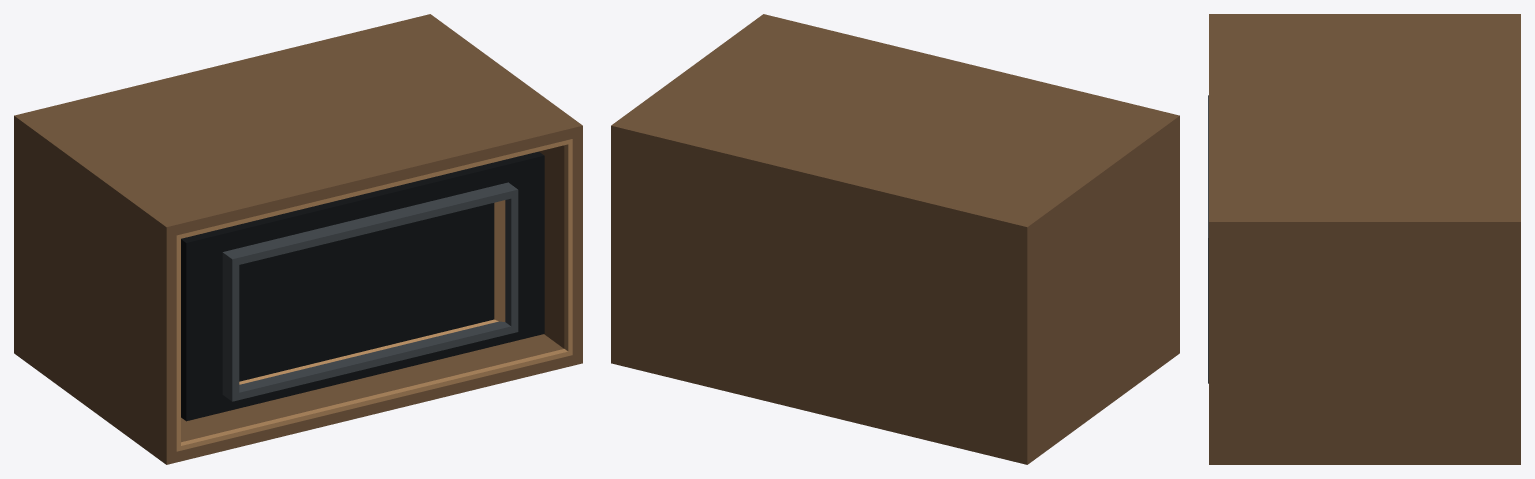
The model's file is tweeter.glb.
3 views of the same model, side by side, from view 1: azimuth 30°, elevation 25°; view 2: azimuth 150°, elevation 25°; view 3: azimuth 270°, elevation 25° (orthographic). The views are drawn at different scales.
Visible parts, largest first — view 1: CabinetTop, Baffle, CabinetLeft, Cabinet, CabinetRight, HornFrameTop, HornFrameBottom, FrontTrimBottom, HornFlare, HornFrameLeft, FrontTrimTop, FrontTrimRight (+2 smaller); view 2: CabinetBack, CabinetTop, CabinetLeft, Cabinet, CabinetRight; view 3: CabinetRight, CabinetTop, Cabinet.
Boxes of the visible parts, <box> form: CabinetTop: <box>14,14,582,237</box>; Baffle: <box>181,151,544,421</box>; CabinetLeft: <box>14,126,176,454</box>; Cabinet: <box>14,334,582,464</box>; CabinetRight: <box>539,136,582,354</box>; HornFrameTop: <box>222,182,518,266</box>; HornFrameBottom: <box>222,321,518,401</box>; FrontTrimBottom: <box>176,349,572,451</box>; HornFlare: <box>239,200,505,384</box>; HornFrameLeft: <box>222,260,239,394</box>; FrontTrimTop: <box>176,139,572,239</box>; FrontTrimRight: <box>564,140,572,354</box>; CabinetBack: <box>621,139,1017,451</box>; CabinetTop: <box>611,14,1179,237</box>; CabinetLeft: <box>1017,126,1179,454</box>; Cabinet: <box>611,343,1179,464</box>; CabinetRight: <box>611,136,621,354</box>; CabinetRight: <box>1209,232,1520,453</box>; CabinetTop: <box>1209,14,1520,232</box>; Cabinet: <box>1209,454,1520,464</box>.
Size of the model in its own units: 0.44 by 0.24 by 0.28.
